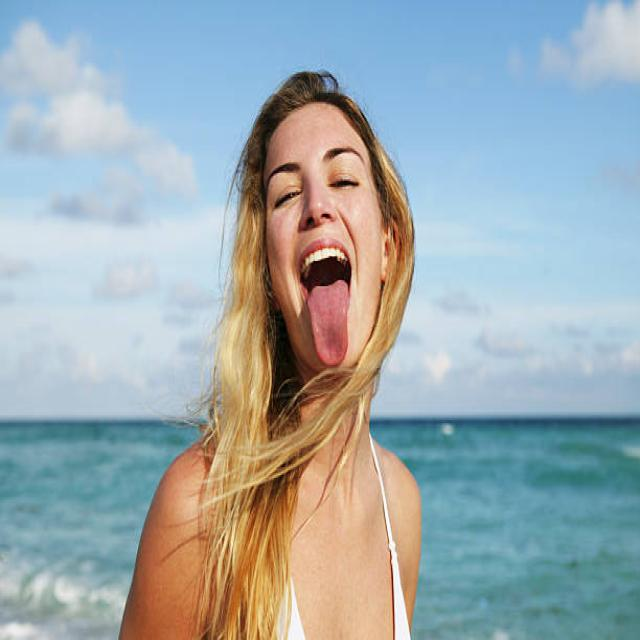tongue: (303, 274, 357, 372)
